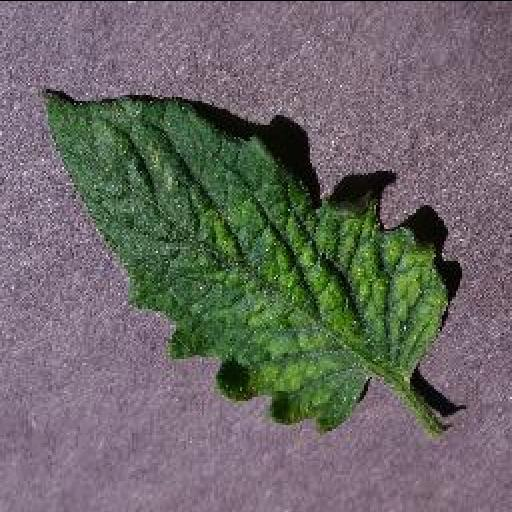disease_tomato: (40, 88, 446, 434)
